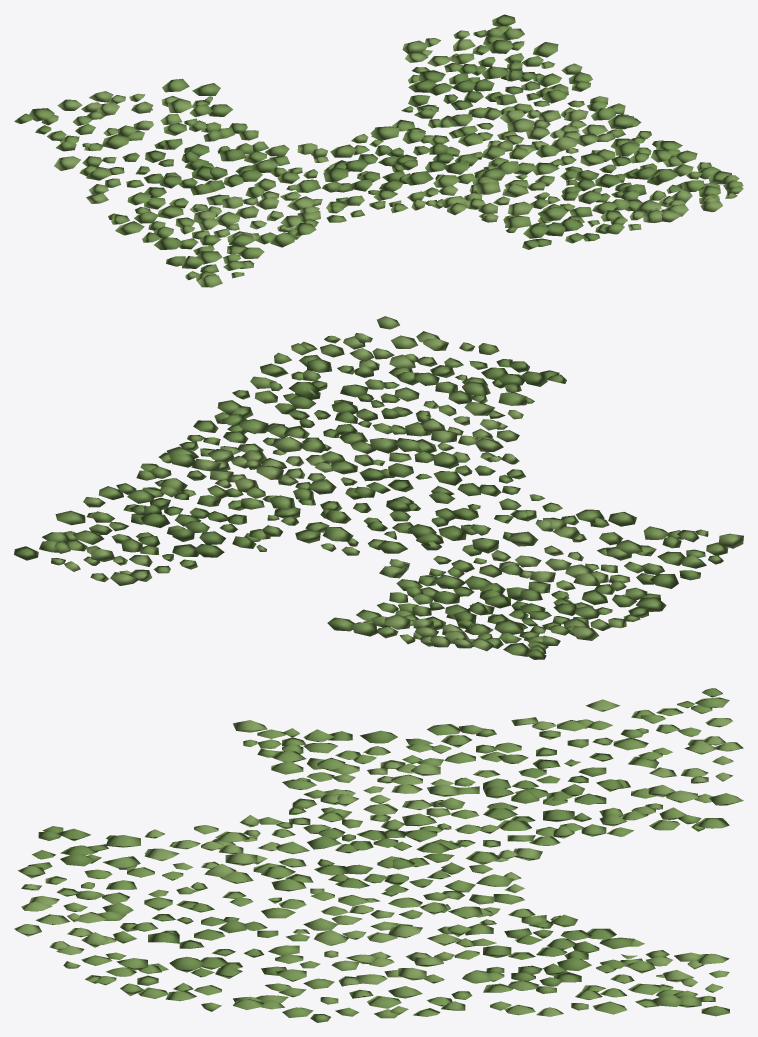
Rendered from canopy-1-2-5.glb.
The picture shows the model from 3 angles, top to bottom: view 1: azimuth 30°, elevation 25°; view 2: azimuth 150°, elevation 25°; view 3: azimuth 270°, elevation 25°; orthographic projection. The views are drawn at different scales.
Size of the model in its own units: 520 by 52.5 by 518.
1 material, 1 textured.
